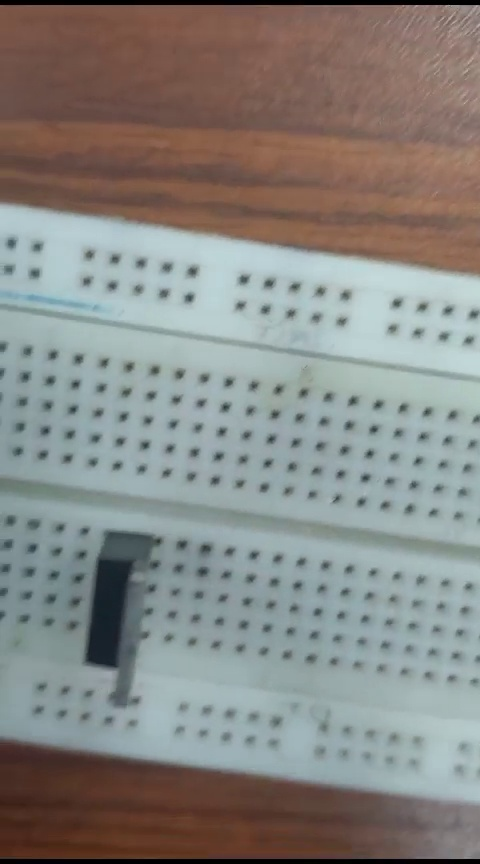voltage regulator: (66, 527, 156, 709)
